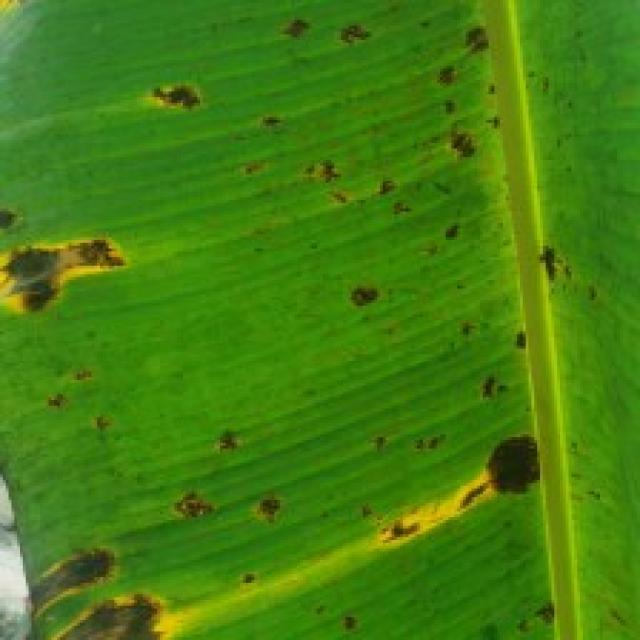Downey_mildrew: (238, 4, 608, 413), (4, 445, 640, 640), (0, 192, 179, 338), (14, 517, 194, 640), (337, 424, 489, 559), (152, 429, 299, 529), (440, 426, 578, 511), (32, 361, 156, 451), (474, 588, 639, 640), (154, 68, 226, 140), (311, 606, 397, 640), (234, 558, 286, 610)
